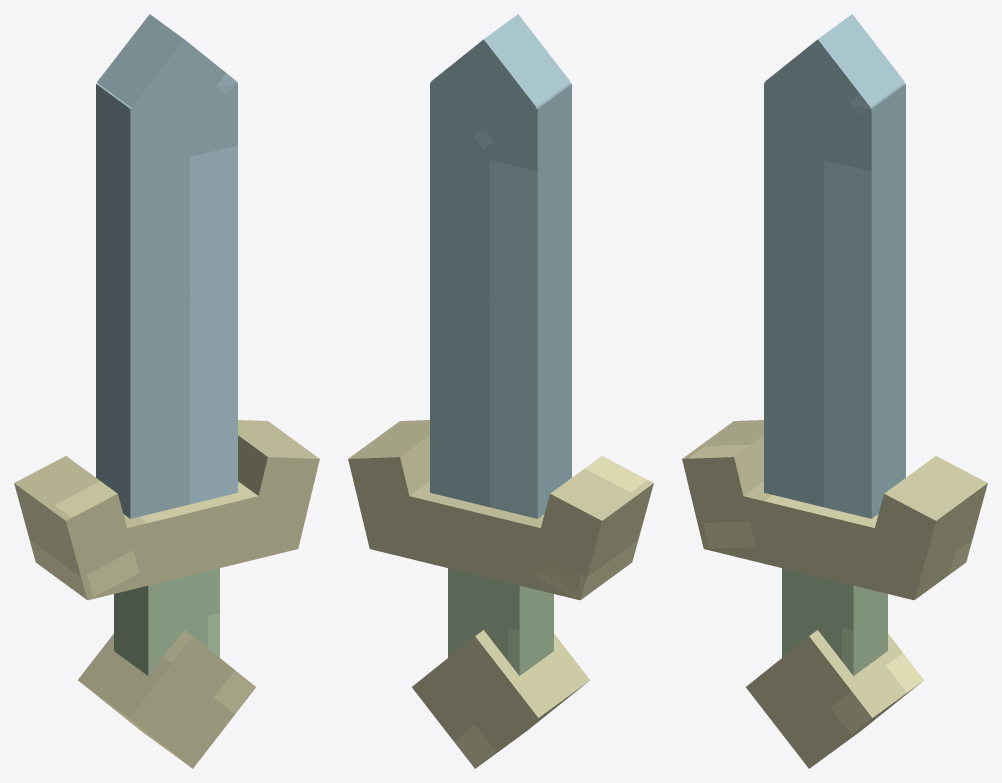
The model's file is IAShopSword.gltf.
The picture shows the model from 3 angles, left to right: view 1: azimuth 30°, elevation 25°; view 2: azimuth 150°, elevation 25°; view 3: azimuth 330°, elevation 25°; orthographic projection.
Visible parts, largest first — view 1: d3de5659-8631-bb8f-d8d9-dc9e1e8a4ff4, bc5d6c2a-f91e-9b2c-ad56-ed242c512d7c, 4aa587a2-eafb-5c41-fe17-0e1d33d60a20, db88b40f-5197-1b44-64bc-eba3fb2674eb, 544f0f62-4833-5b4a-6b09-3e2d08ada067, a4c6e515-68e1-f061-25d4-156b568d80c3, e7f37244-8604-d7d7-189f-1c993981bea7; view 2: d3de5659-8631-bb8f-d8d9-dc9e1e8a4ff4, bc5d6c2a-f91e-9b2c-ad56-ed242c512d7c, 4aa587a2-eafb-5c41-fe17-0e1d33d60a20, db88b40f-5197-1b44-64bc-eba3fb2674eb, 544f0f62-4833-5b4a-6b09-3e2d08ada067, a4c6e515-68e1-f061-25d4-156b568d80c3, e7f37244-8604-d7d7-189f-1c993981bea7; view 3: d3de5659-8631-bb8f-d8d9-dc9e1e8a4ff4, 4aa587a2-eafb-5c41-fe17-0e1d33d60a20, bc5d6c2a-f91e-9b2c-ad56-ed242c512d7c, 544f0f62-4833-5b4a-6b09-3e2d08ada067, e7f37244-8604-d7d7-189f-1c993981bea7, a4c6e515-68e1-f061-25d4-156b568d80c3, db88b40f-5197-1b44-64bc-eba3fb2674eb.
Boxes of the visible parts, x1=… form: d3de5659-8631-bb8f-d8d9-dc9e1e8a4ff4: x1=96, y1=82, x2=237, y2=518; bc5d6c2a-f91e-9b2c-ad56-ed242c512d7c: x1=88, y1=481, x2=297, y2=600; 4aa587a2-eafb-5c41-fe17-0e1d33d60a20: x1=78, y1=630, x2=255, y2=768; db88b40f-5197-1b44-64bc-eba3fb2674eb: x1=14, y1=456, x2=139, y2=599; 544f0f62-4833-5b4a-6b09-3e2d08ada067: x1=97, y1=14, x2=236, y2=149; a4c6e515-68e1-f061-25d4-156b568d80c3: x1=114, y1=568, x2=219, y2=675; e7f37244-8604-d7d7-189f-1c993981bea7: x1=238, y1=420, x2=319, y2=548; d3de5659-8631-bb8f-d8d9-dc9e1e8a4ff4: x1=430, y1=82, x2=571, y2=518; bc5d6c2a-f91e-9b2c-ad56-ed242c512d7c: x1=370, y1=481, x2=579, y2=600; 4aa587a2-eafb-5c41-fe17-0e1d33d60a20: x1=412, y1=630, x2=589, y2=768; db88b40f-5197-1b44-64bc-eba3fb2674eb: x1=528, y1=456, x2=653, y2=599; 544f0f62-4833-5b4a-6b09-3e2d08ada067: x1=431, y1=14, x2=570, y2=149; a4c6e515-68e1-f061-25d4-156b568d80c3: x1=448, y1=568, x2=553, y2=675; e7f37244-8604-d7d7-189f-1c993981bea7: x1=348, y1=420, x2=429, y2=548; d3de5659-8631-bb8f-d8d9-dc9e1e8a4ff4: x1=764, y1=82, x2=905, y2=518; 4aa587a2-eafb-5c41-fe17-0e1d33d60a20: x1=746, y1=630, x2=923, y2=768; bc5d6c2a-f91e-9b2c-ad56-ed242c512d7c: x1=704, y1=481, x2=913, y2=600; 544f0f62-4833-5b4a-6b09-3e2d08ada067: x1=765, y1=14, x2=904, y2=148; e7f37244-8604-d7d7-189f-1c993981bea7: x1=875, y1=456, x2=987, y2=599; a4c6e515-68e1-f061-25d4-156b568d80c3: x1=782, y1=568, x2=887, y2=675; db88b40f-5197-1b44-64bc-eba3fb2674eb: x1=682, y1=420, x2=763, y2=548.
Size of the model in its own units: 4.25 by 11.56 by 1.5.
3 materials, 3 textured.
